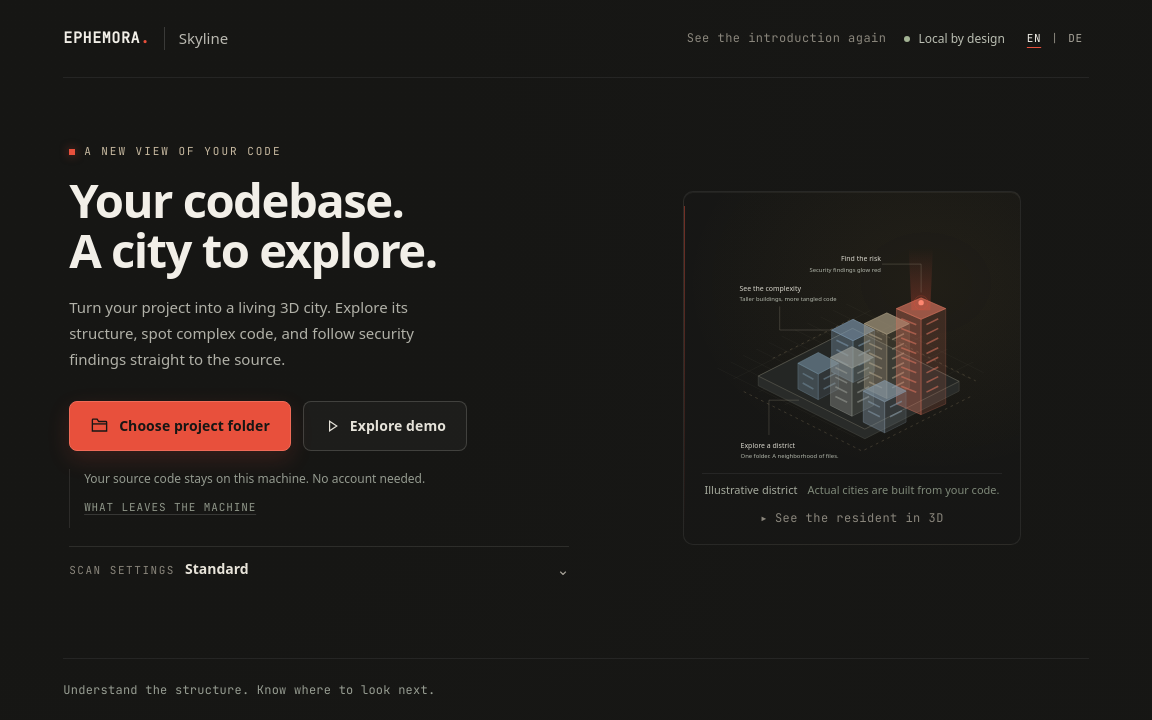
Test case: the name appears at the resident (§04.04) › shows no tag while nothing is named
What coordinates should you click on to do the following:
click the button with class "start-ephe-open"
I would click on:
 (852, 518)
Its box is [752, 504, 952, 532].
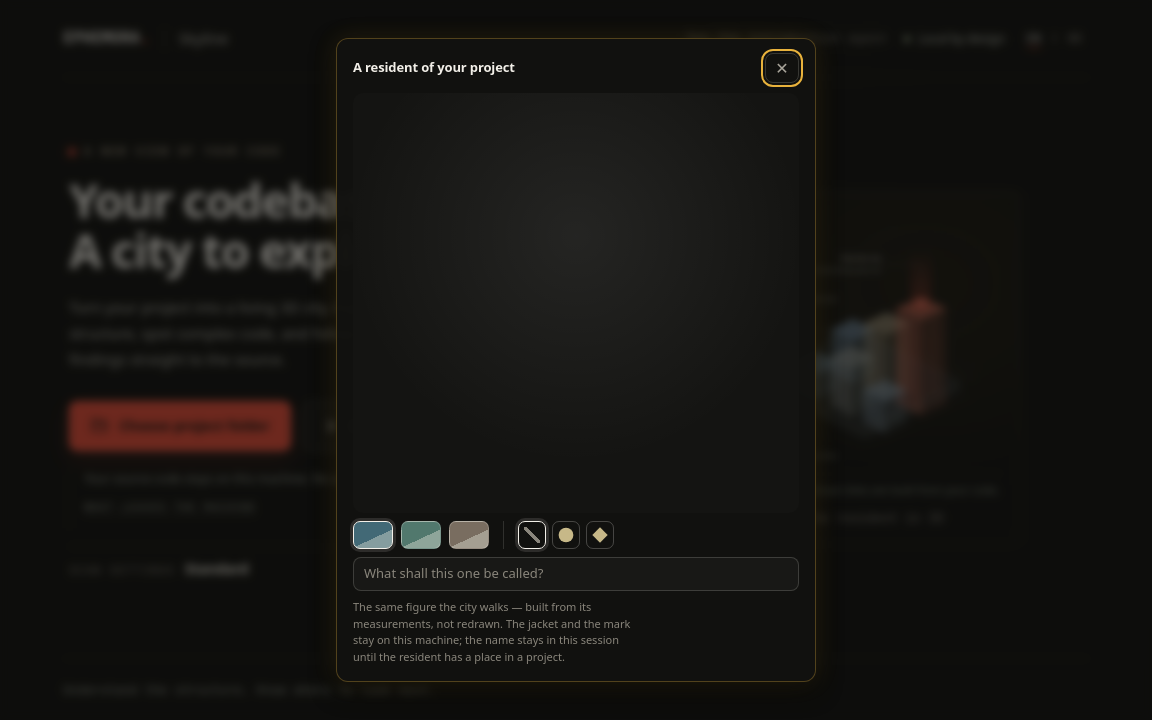
Result: the field with class "ephe-preview-name-input" is shown at [353, 557, 799, 591]
